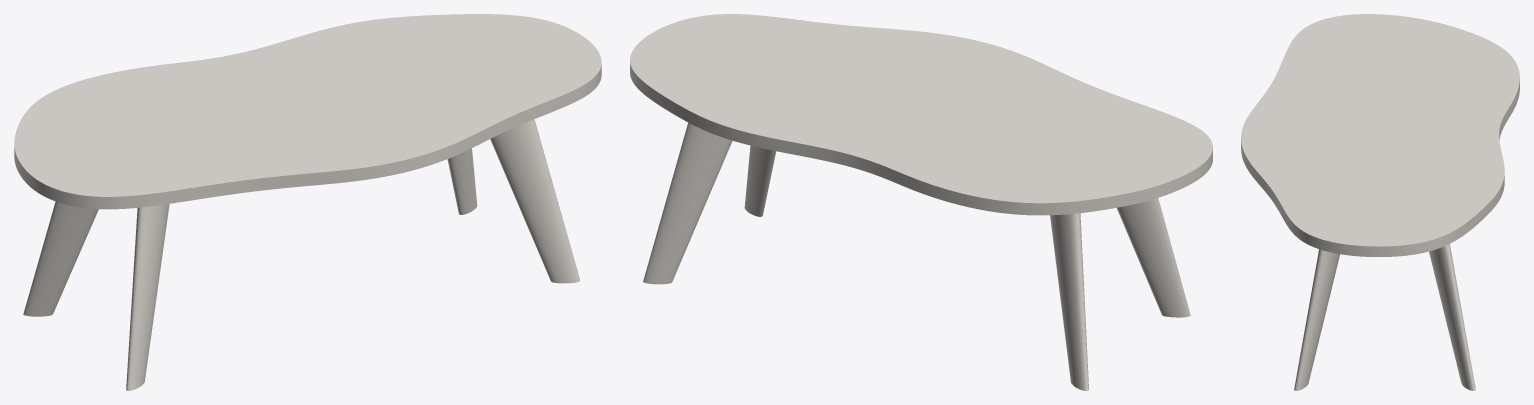
The model's file is pearlwhite_toplast_standard_ferdinantwalnut.glb.
The picture shows the model from 3 angles, left to right: view 1: azimuth 30°, elevation 25°; view 2: azimuth 150°, elevation 25°; view 3: azimuth 270°, elevation 25°; orthographic projection. The views are drawn at different scales.
Visible parts, largest first — view 1: standard_toplast, ferdinandwalnut; view 2: standard_toplast, ferdinandwalnut; view 3: standard_toplast, ferdinandwalnut.
Boxes of the visible parts, x1=… form: standard_toplast: x1=14, y1=14, x2=601, y2=209; ferdinandwalnut: x1=23, y1=119, x2=580, y2=390; standard_toplast: x1=630, y1=14, x2=1212, y2=215; ferdinandwalnut: x1=643, y1=122, x2=1190, y2=390; standard_toplast: x1=1241, y1=14, x2=1519, y2=256; ferdinandwalnut: x1=1294, y1=244, x2=1475, y2=390.
Size of the model in its own units: 7.5 by 2.51 by 3.8.
Materials: 1 (1 with a texture image).
